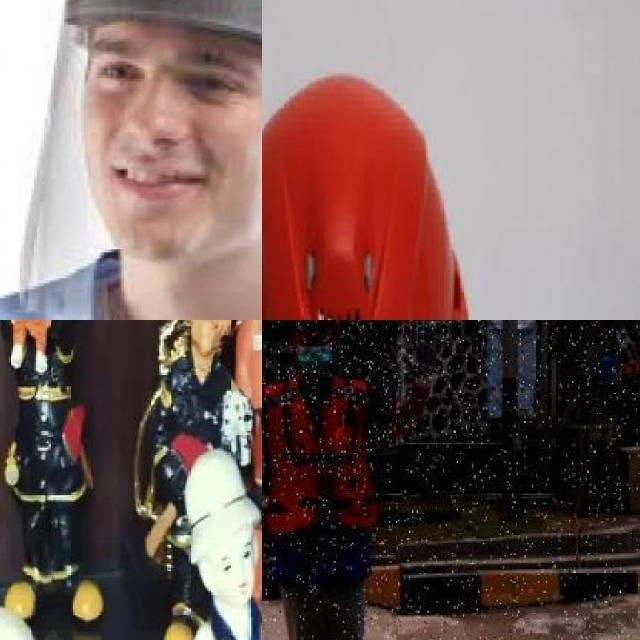apron: (398, 320, 436, 391)
